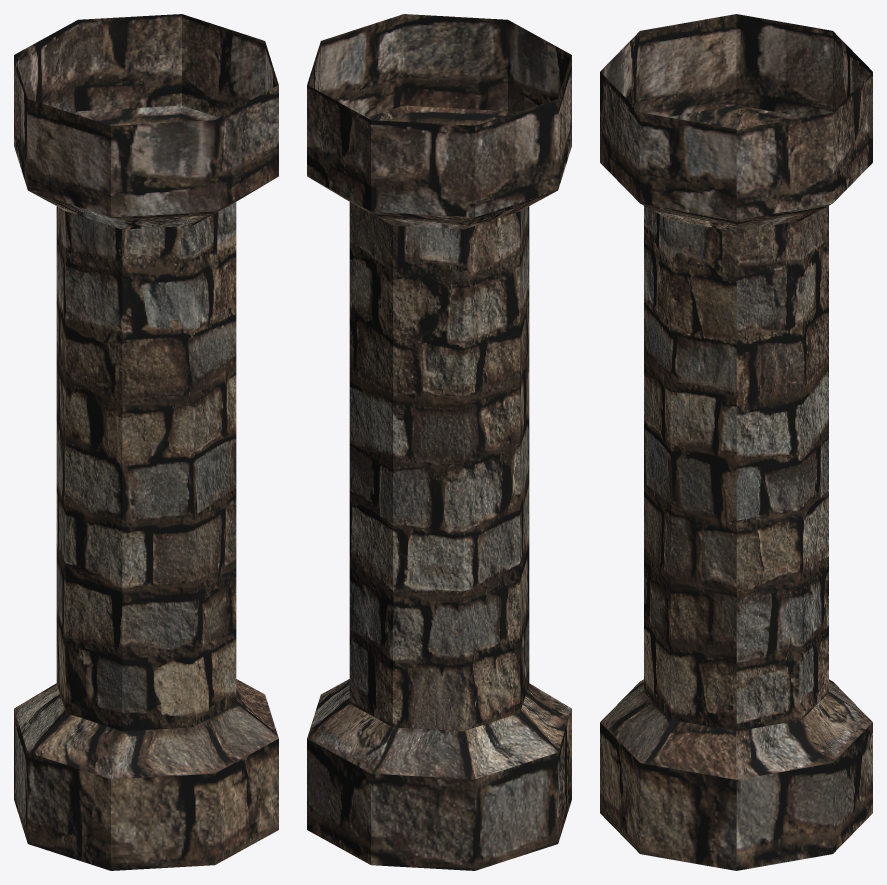
The model's file is ColumnBricks2.fbx.
The picture shows the model from 3 angles, left to right: view 1: azimuth 30°, elevation 25°; view 2: azimuth 150°, elevation 25°; view 3: azimuth 270°, elevation 25°; orthographic projection.
Visible parts, largest first — view 1: ColumnBricks2; view 2: ColumnBricks2; view 3: ColumnBricks2.
Part boxes in pixels (left/top/right/bottom): ColumnBricks2: left=14, top=14, right=278, bottom=870; ColumnBricks2: left=307, top=14, right=571, bottom=870; ColumnBricks2: left=600, top=14, right=872, bottom=870.
Bounding box in the file's own units: 100 × 300 × 100.
Materials: 1 (1 with a texture image).
